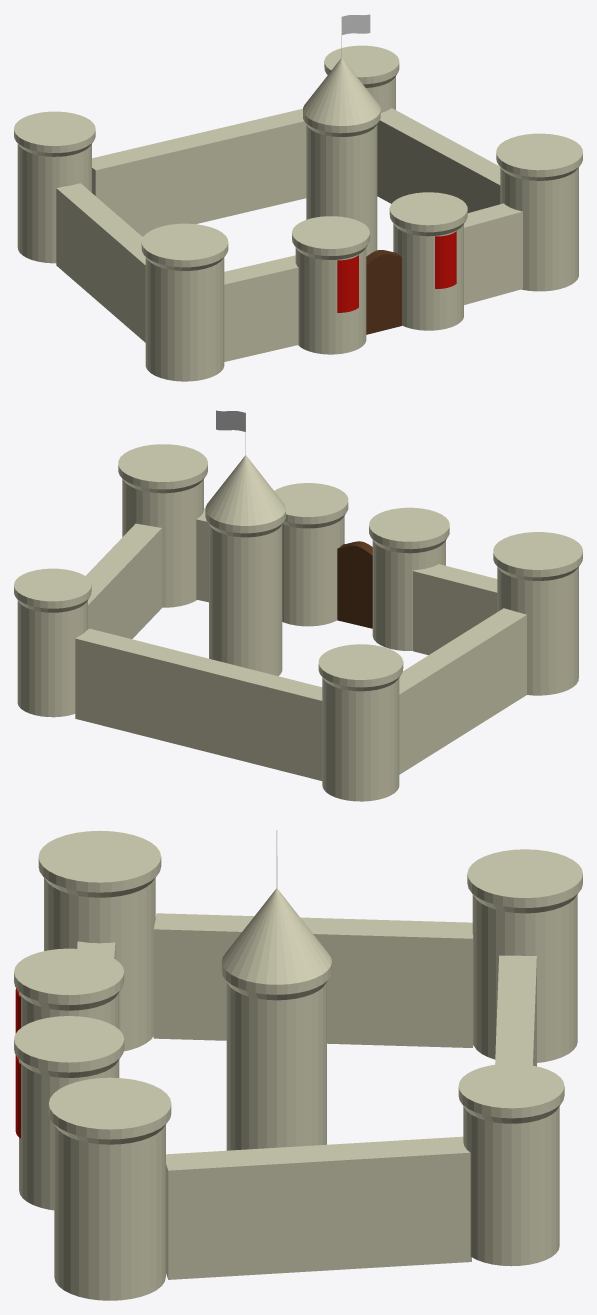
Rendered from Castle.fbx.
3 renders of one model, top to bottom at view 1: azimuth 30°, elevation 25°; view 2: azimuth 150°, elevation 25°; view 3: azimuth 270°, elevation 25°, orthographic. The views are drawn at different scales.
Parts seen in each view (by area): view 1: Cylinder, Cube.002, Cube.003, Cube.004, Cube, Cube.001, Cube.005, Plane; view 2: Cylinder, Cube.002, Cube.003, Cube.004, Cube, Cube.005, Cube.001, Plane; view 3: Cylinder, Cube.004, Cube.003, Cube.002.
Boxes of the visible parts, x1,y1,x2,y2 form: Cylinder: [14, 17, 582, 381]; Cube.002: [92, 108, 306, 236]; Cube.003: [56, 183, 145, 342]; Cube.004: [377, 108, 500, 212]; Cube: [224, 255, 298, 361]; Cube.001: [464, 203, 522, 304]; Cube.005: [366, 250, 401, 334]; Plane: [342, 14, 370, 34]; Cylinder: [14, 413, 582, 801]; Cube.002: [75, 628, 322, 780]; Cube.003: [399, 608, 526, 774]; Cube.004: [85, 523, 161, 638]; Cube: [413, 564, 497, 655]; Cube.005: [337, 541, 372, 628]; Cube.001: [196, 508, 208, 602]; Plane: [216, 410, 245, 431]; Cylinder: [14, 830, 582, 1300]; Cube.004: [166, 1136, 471, 1279]; Cube.003: [153, 913, 473, 1047]; Cube.002: [495, 955, 536, 1066].
Size of the model in its own units: 848 by 465 by 683.
